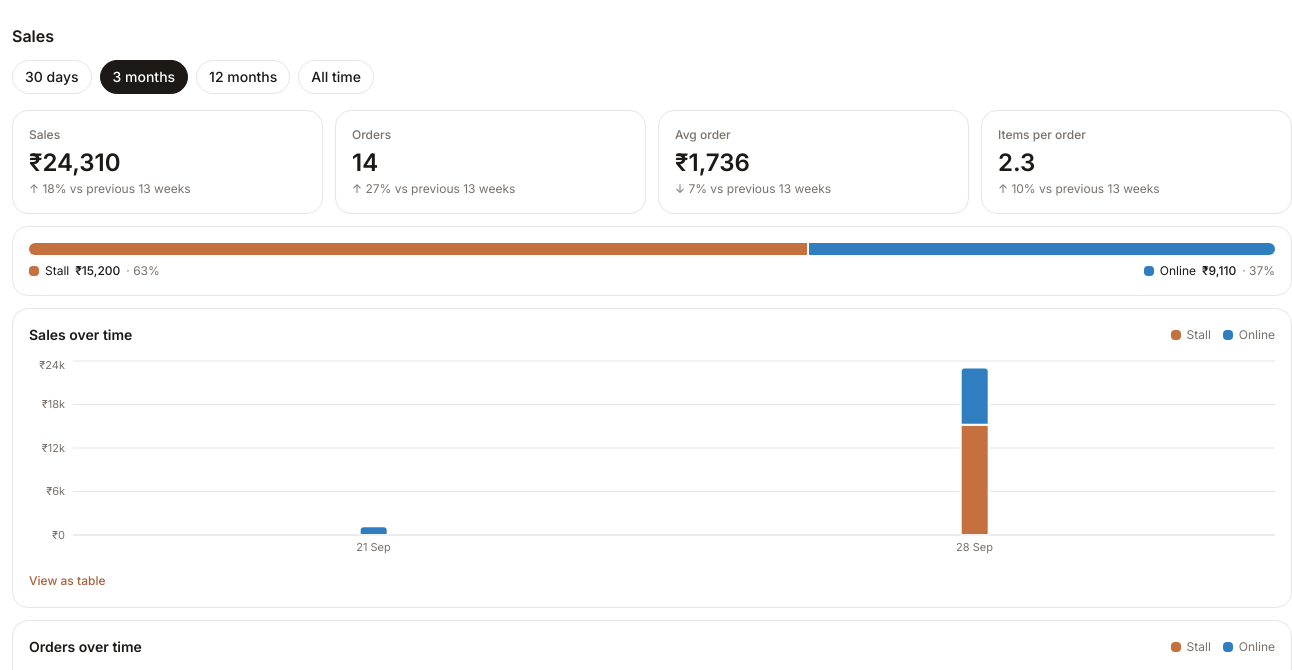
Test: SalesSection › shows an error banner with Retry, and no stale numbers, when a chip switch fails
Expected: the text "₹24,310" is shown, x1=29 y1=148 x2=121 y2=177
Click the radio button labelled "30 days": click(52, 77) x1=12 y1=60 x2=92 y2=94
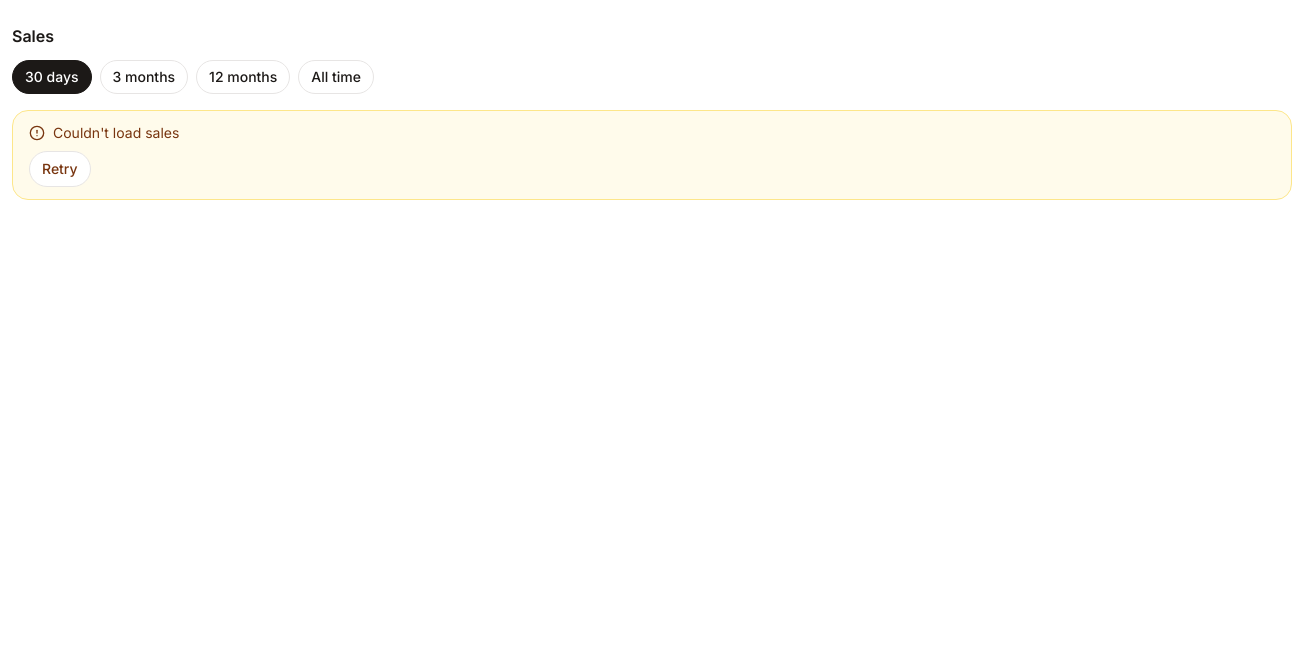
Now the message shows "Couldn't load sales", box x1=53 y1=124 x2=179 y2=141
Now the button "Retry" is shown, box x1=29 y1=151 x2=91 y2=187
Now the text "₹24,310" is gone
